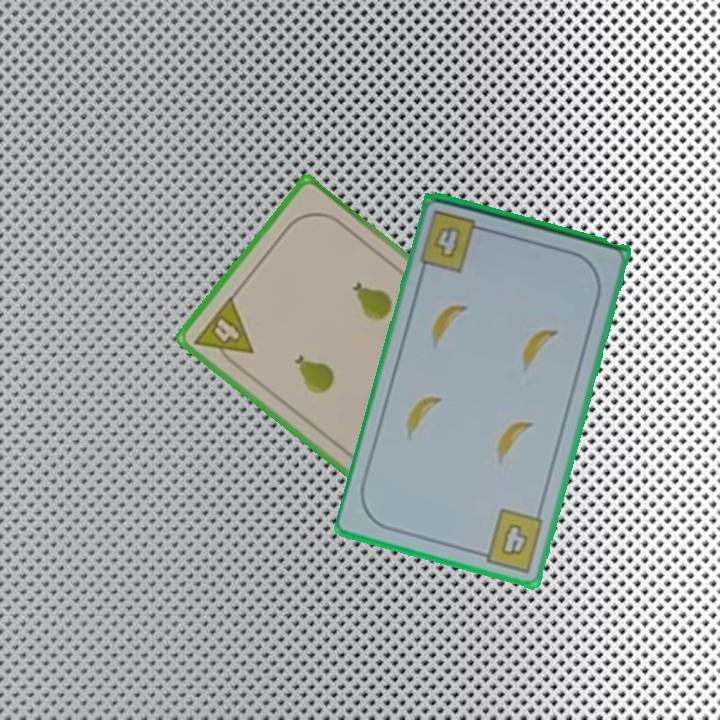4b: (472, 505, 547, 576), (420, 207, 492, 275)
4p: (190, 292, 256, 373)
